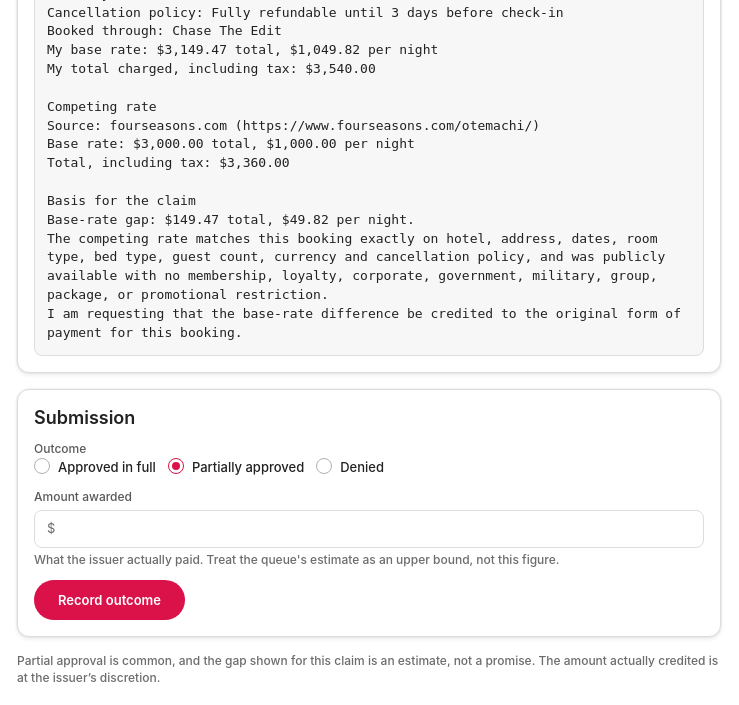
Scenario: <ClaimKit /> — §7.4 checklist-first order › shows the prevention note instead of a rebuttal for a non-appealable code
The image size is (739, 705).
(page scrolled)
Click the radio button named "Denied" next to "Denied" at (324, 466), box [316,458,332,474]
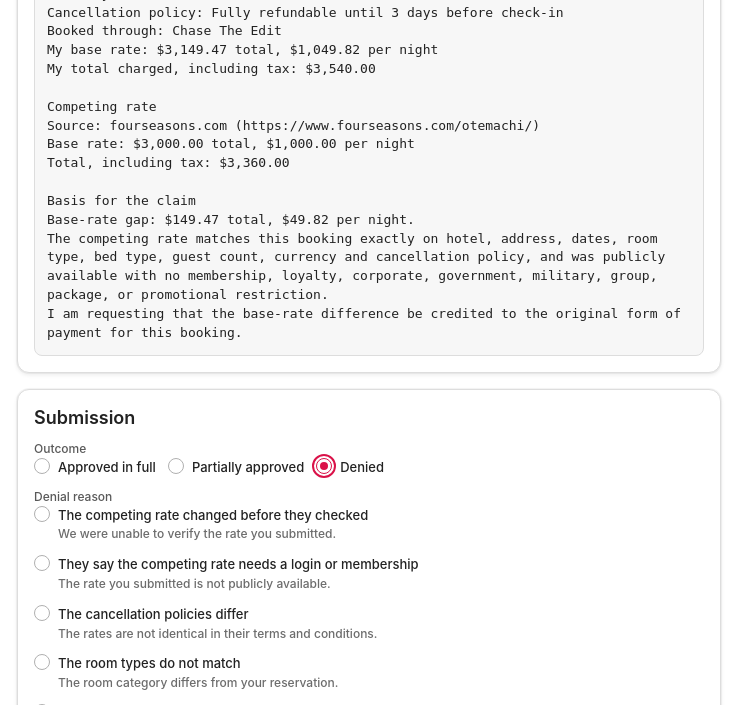
Click the radio button named "The cancellation policies differ" next to "The cancellation policies differ" at (42, 613), box [34,605,50,621]
(page scrolled)
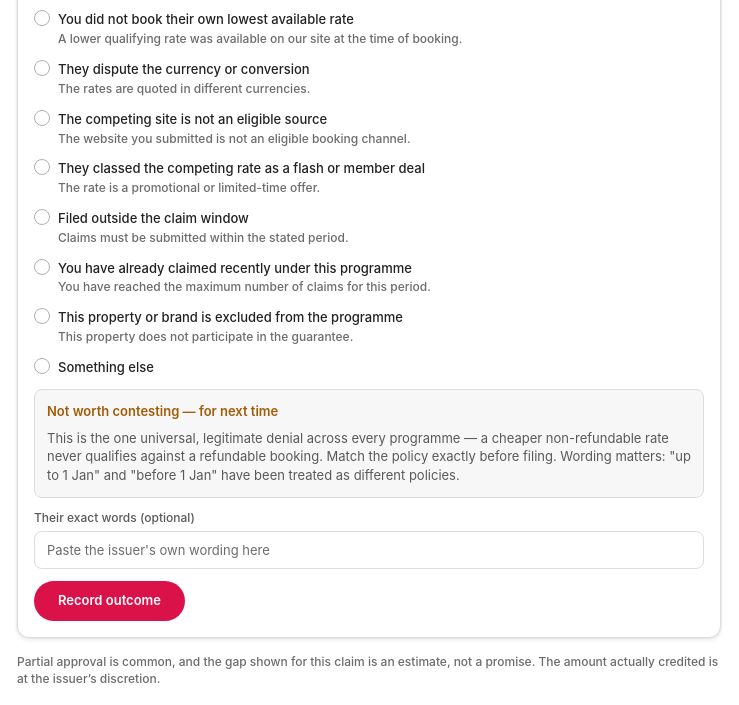
Expected: the text "Not worth contesting — for next time" is shown, [47,402,278,420]
Expected: the text "the one universal, legitimate denial" is shown, [47,430,691,483]
